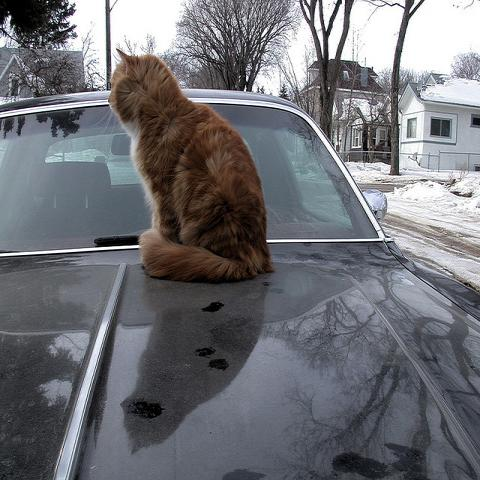car: (0, 88, 479, 479)
